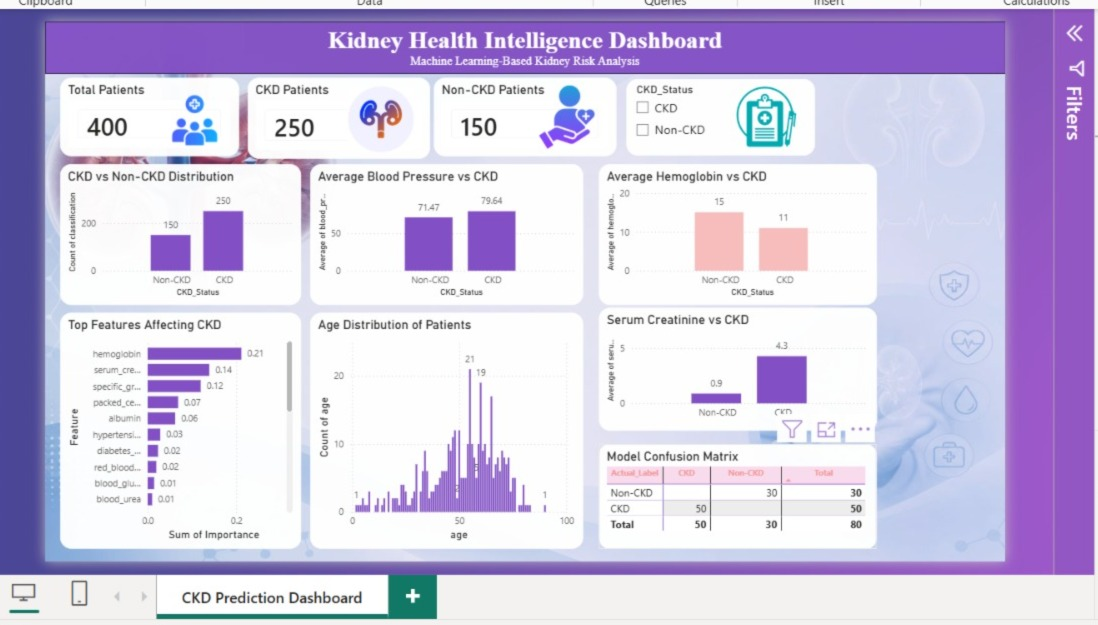

The page's visual inventory and layout, read from the dashboard file:
{"tool":"powerbi","page":{"name":"CKD Prediction Dashboard","canvas":[1280,720],"ordinal":0},"visuals":[{"type":"clusteredColumnChart","title":"CKD vs Non-CKD Distribution","fields":{"Y":["CountNonNull(final_ckd_dataset.classification)"],"Category":["final_ckd_dataset.CKD_Status"]},"box":[20.7,189.3,321.3,187.7],"z":0},{"type":"clusteredColumnChart","title":"Serum Creatinine vs CKD","fields":{"Y":["Avg(final_ckd_dataset.serum_creatinine)"],"Category":["final_ckd_dataset.CKD_Status"]},"box":[738,381.7,370.6,163.8],"z":1000},{"type":"clusteredColumnChart","title":"Average Hemoglobin vs CKD","fields":{"Y":["Avg(final_ckd_dataset.hemoglobin)"],"Category":["final_ckd_dataset.CKD_Status"]},"box":[738,189.3,370.6,187.7],"z":2000},{"type":"clusteredColumnChart","title":"Average Blood Pressure vs CKD","fields":{"Y":["Avg(final_ckd_dataset.blood_pressure)"],"Category":["final_ckd_dataset.CKD_Status"]},"box":[353.1,189.3,364.2,187.7],"z":3000},{"type":"clusteredBarChart","title":"Top Features Affecting CKD","fields":{"Category":["feature_importance.Feature"],"Y":["Sum(feature_importance.Importance)"]},"box":[20.7,388.1,321.3,314.9],"z":4000},{"type":"pivotTable","title":"Model Confusion Matrix","fields":{"Rows":["model_predictions.Actual_Label"],"Columns":["model_predictions.Predicted_label"],"Values":["CountNonNull(model_predictions.Predicted_label)"]},"box":[738,563.1,370.6,140],"z":5000},{"type":"clusteredColumnChart","title":"Age Distribution of Patients","fields":{"Category":["final_ckd_dataset.age"],"Y":["CountNonNull(final_ckd_dataset.age)"]},"box":[353.1,388.1,364.2,314.9],"z":6000},{"type":"cardVisual","title":"Total Patients","fields":{"Data":["CountNonNull(final_ckd_dataset.classification)"]},"box":[20.7,74.8,238.6,105],"z":7000},{"type":"cardVisual","title":"CKD Patients","fields":{"Data":["CountNonNull(final_ckd_dataset.classification)"]},"box":[270.4,74.8,243.4,108.2],"z":8000},{"type":"cardVisual","title":"Non-CKD Patients","fields":{"Data":["CountNonNull(final_ckd_dataset.classification)"]},"box":[518.5,74.8,243.4,105],"z":9000},{"type":"slicer","fields":{"Values":["final_ckd_dataset.CKD_Status"]},"box":[774.6,76.3,251.3,101.8],"z":10000},{"type":"image","box":[151.1,98.6,95.4,66.8],"z":11000},{"type":"image","box":[392.9,87.5,108.2,87.5],"z":12000},{"type":"image","box":[653.7,79.5,84.3,95.4],"z":13000},{"type":"image","box":[913,82.7,97,87.5],"z":14000},{"type":"textbox","box":[0,0,1280.4,70],"z":15000}]}

Visuals, with their boxes on the page's 1280x720 design canvas (x1, y1, x2, y2). These are canvas units, not pixel positions in the 1098x625 screenshot, which may show the page scaled, cropped or inside an application window:
"CKD vs Non-CKD Distribution" clusteredColumnChart: [21,189,342,377]
"Serum Creatinine vs CKD" clusteredColumnChart: [738,382,1109,546]
"Average Hemoglobin vs CKD" clusteredColumnChart: [738,189,1109,377]
"Average Blood Pressure vs CKD" clusteredColumnChart: [353,189,717,377]
"Top Features Affecting CKD" clusteredBarChart: [21,388,342,703]
"Model Confusion Matrix" pivotTable: [738,563,1109,703]
"Age Distribution of Patients" clusteredColumnChart: [353,388,717,703]
"Total Patients" cardVisual: [21,75,259,180]
"CKD Patients" cardVisual: [270,75,514,183]
"Non-CKD Patients" cardVisual: [518,75,762,180]
slicer - final_ckd_dataset.CKD_Status: [775,76,1026,178]
image: [151,99,246,165]
image: [393,88,501,175]
image: [654,80,738,175]
image: [913,83,1010,170]
textbox: [0,0,1280,70]
